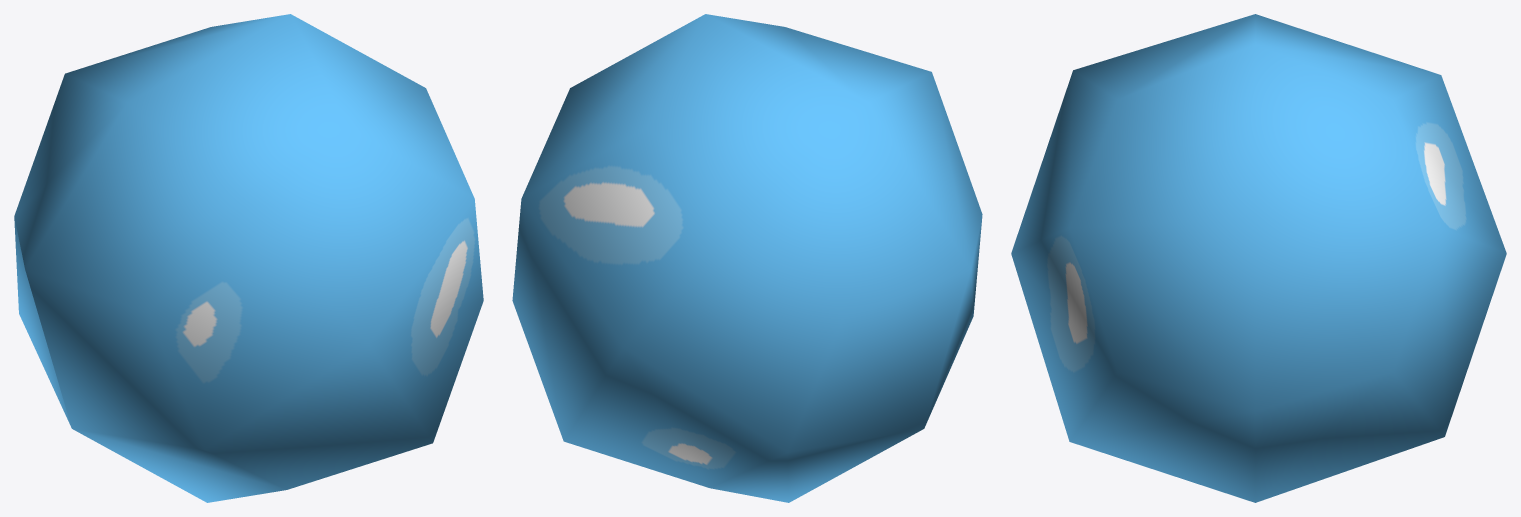
Rendered from Bubble01.fbx.
The picture shows the model from 3 angles, left to right: view 1: azimuth 30°, elevation 25°; view 2: azimuth 150°, elevation 25°; view 3: azimuth 270°, elevation 25°; orthographic projection.
Visible parts, largest first — view 1: pCube7; view 2: pCube7; view 3: pCube7.
Part boxes in pixels (x1=…): pCube7: x1=14, y1=14, x2=483, y2=502; pCube7: x1=512, y1=14, x2=982, y2=502; pCube7: x1=1011, y1=14, x2=1506, y2=502.
Size of the model in its own units: 1.18 by 1.18 by 1.13.
